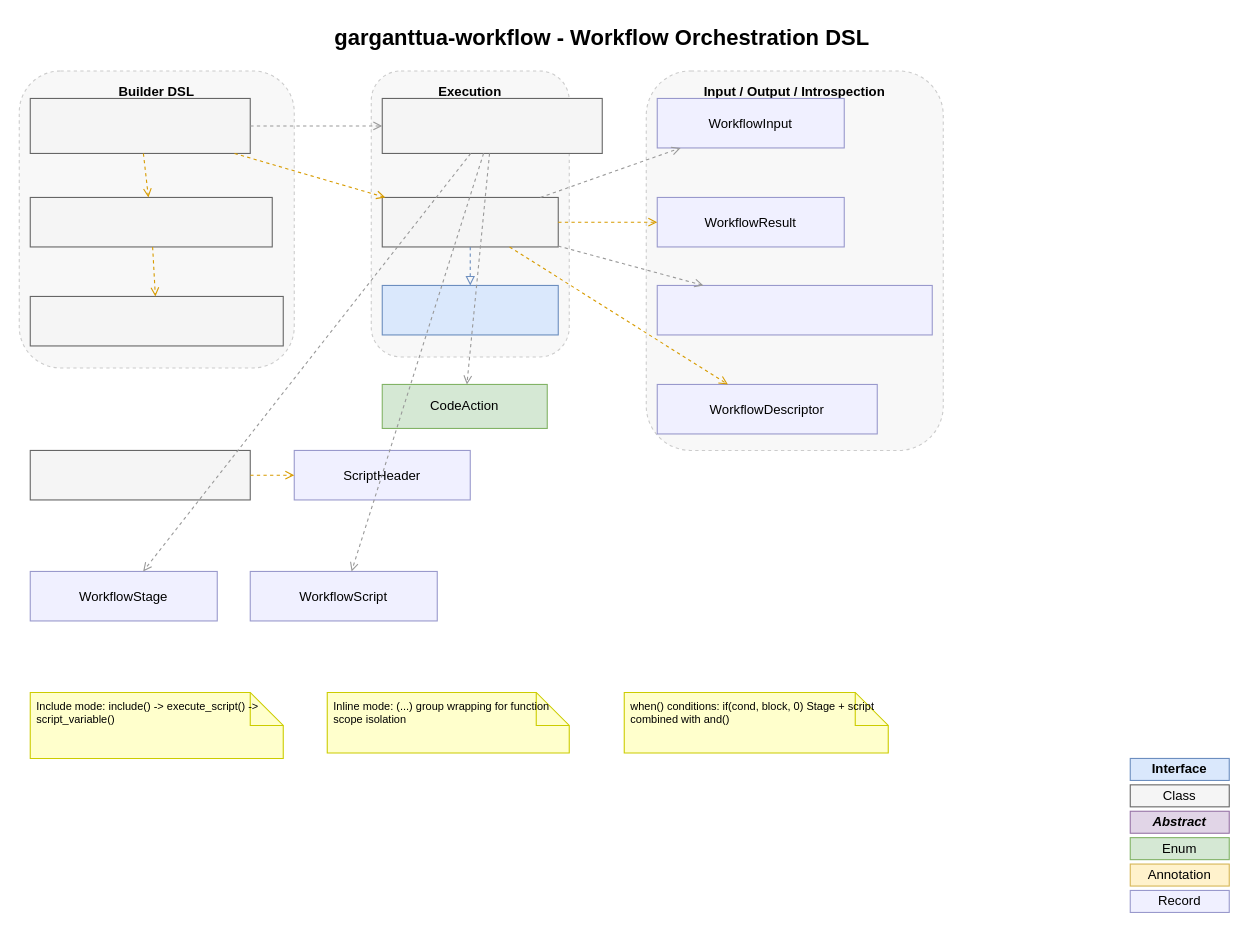
Image size: 1249x932. Some labels were removed from this diagram. The shapes that lost their labels are listed below. From the top down, each one's centre as x and y in pixels, then its label:
At pixel 139 125: "WorkflowBuilder".
At pixel 491 125: "ScriptGenerator".
At pixel 150 221: "WorkflowStageBuilder".
At pixel 469 221: "Workflow".
At pixel 156 320: "WorkflowScriptBuilder".
At pixel 469 309: "IWorkflow".
At pixel 794 309: "WorkflowExecutionOptions".
At pixel 139 474: "ScriptHeaderParser".
